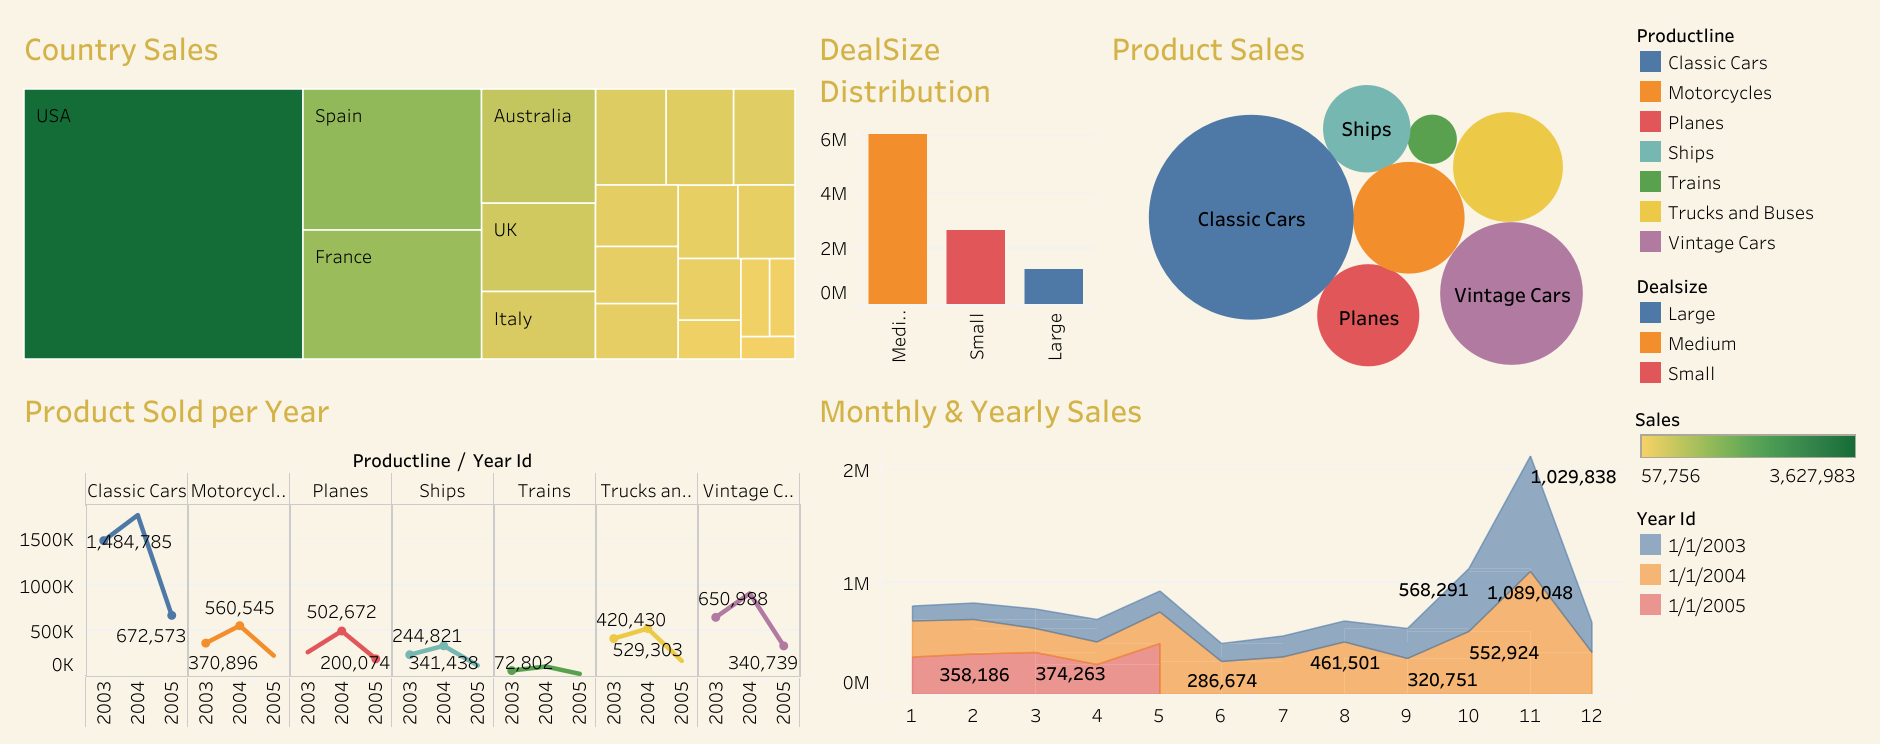

The page's visual inventory and layout, read from the dashboard file:
{"tool":"tableau","page":{"name":"Dashboard 2","canvas":[1000,1000],"units":"permille","ordinal":0},"visuals":[{"type":"worksheet","title":"Country","mark":"Automatic","box":[5,9.9,437.7,490.1]},{"type":"worksheet","title":"DealSize","mark":"Automatic","rows":["SALES"],"cols":["DEALSIZE"],"box":[442.6,9.9,160.8,490.1]},{"type":"worksheet","title":"Product Sales","mark":"Circle","box":[603.5,9.9,291.8,490.1]},{"type":"legend","title":"Sheet 5","param":"[federated.0b2vehg1usk6mz15ts3d90xpb41n].[none:PRODUCTLINE:nk]","box":[895.3,9.9,99.8,259.3]},{"type":"legend","title":"DealSize","param":"[federated.0b2vehg1usk6mz15ts3d90xpb41n].[none:DEALSIZE:nk]","box":[895.3,269.2,99.8,135.2]},{"type":"legend","title":"Country","param":"[federated.0b2vehg1usk6mz15ts3d90xpb41n].[sum:SALES:qk]","box":[895.3,404.5,99.8,100.5]},{"type":"worksheet","title":"Sheet 5","mark":"Automatic","rows":["SALES"],"cols":["PRODUCTLINE","YEAR_ID"],"box":[5,500,437.7,490.1]},{"type":"worksheet","title":"Monthly & Yearly","mark":"Area","rows":["SALES"],"cols":["MONTH_ID"],"box":[442.6,500,452.6,490.1]},{"type":"legend","title":"Monthly & Yearly","param":"[federated.0b2vehg1usk6mz15ts3d90xpb41n].[none:YEAR_ID:ok]","box":[895.3,505,99.8,135.2]}]}

Visuals, with their boxes on the dashboard's canvas, which has no fixed pixel size, in thousandths of its width and height (x1, y1, x2, y2). These are canvas units, not pixel positions in the 1880x744 screenshot, which may show the page scaled, cropped or inside an application window:
"Country" worksheet: [left=5, top=10, right=443, bottom=500]
"DealSize" worksheet: [left=443, top=10, right=603, bottom=500]
"Product Sales" worksheet (Circle marks): [left=604, top=10, right=895, bottom=500]
"Sheet 5" legend: [left=895, top=10, right=995, bottom=269]
"DealSize" legend: [left=895, top=269, right=995, bottom=404]
"Country" legend: [left=895, top=404, right=995, bottom=505]
"Sheet 5" worksheet: [left=5, top=500, right=443, bottom=990]
"Monthly & Yearly" worksheet (Area marks): [left=443, top=500, right=895, bottom=990]
"Monthly & Yearly" legend: [left=895, top=505, right=995, bottom=640]
